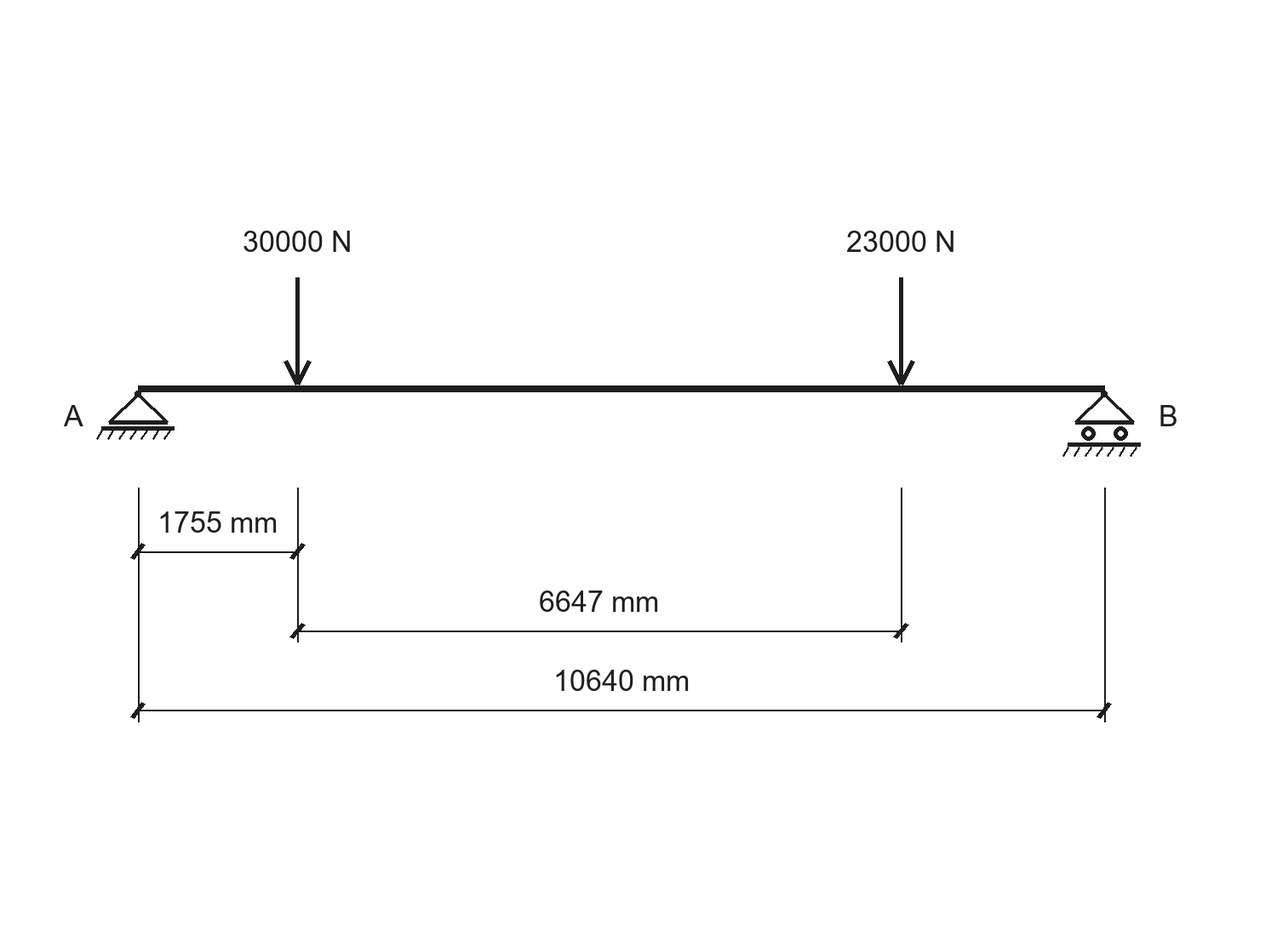pin_support: (96, 391, 175, 440)
point_load: (283, 277, 312, 385), (887, 277, 915, 385)
roller_support: (1062, 391, 1141, 457)
